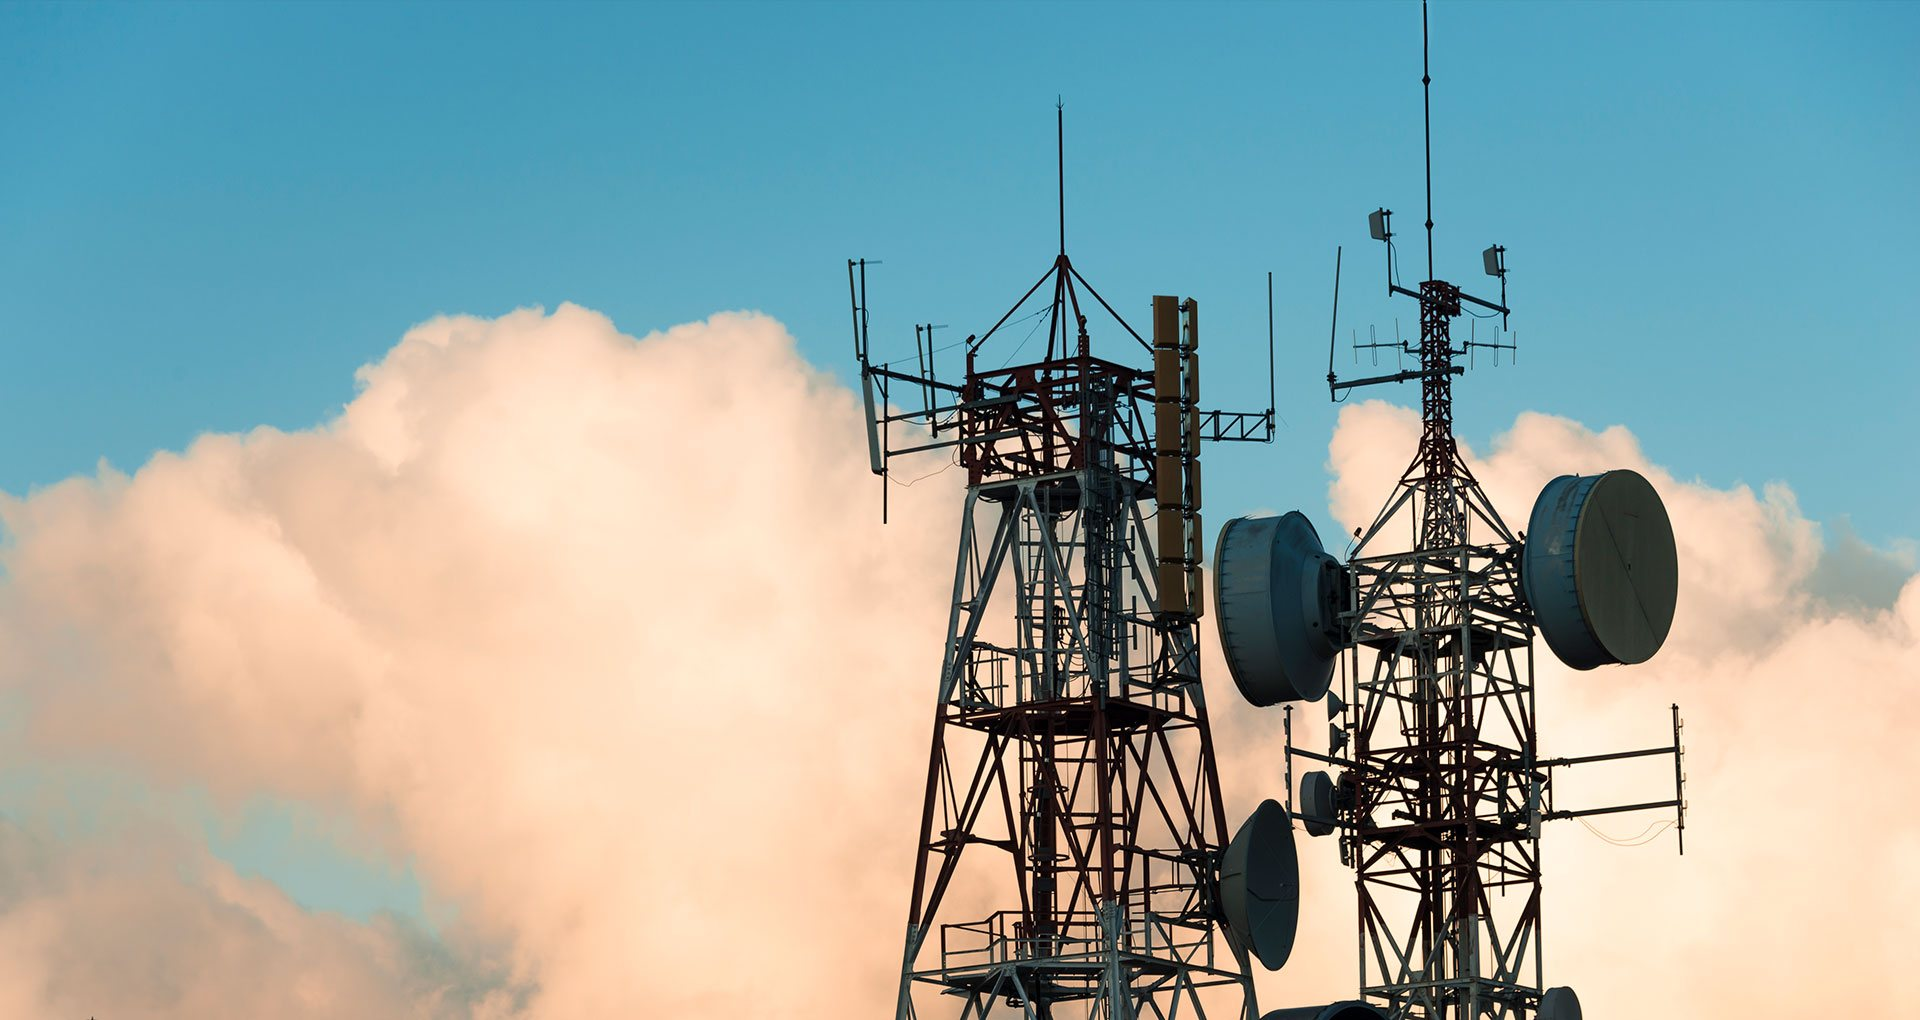ba: (1503, 470, 1684, 699), (1215, 502, 1354, 734), (1208, 807, 1316, 968), (1286, 749, 1349, 835)
